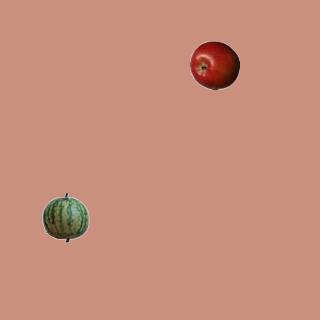Apple Braeburn: (189, 40, 239, 90)
Watermelon: (40, 192, 90, 242)
